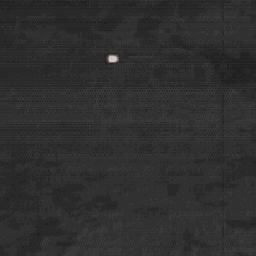Target: (104, 53, 121, 64)
